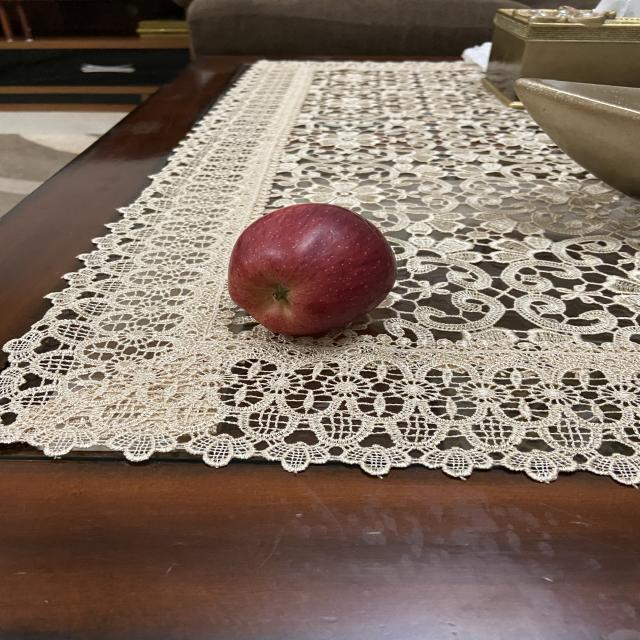apple: (225, 196, 394, 336)
